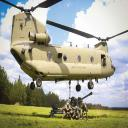helicopter: (4, 1, 127, 94)
